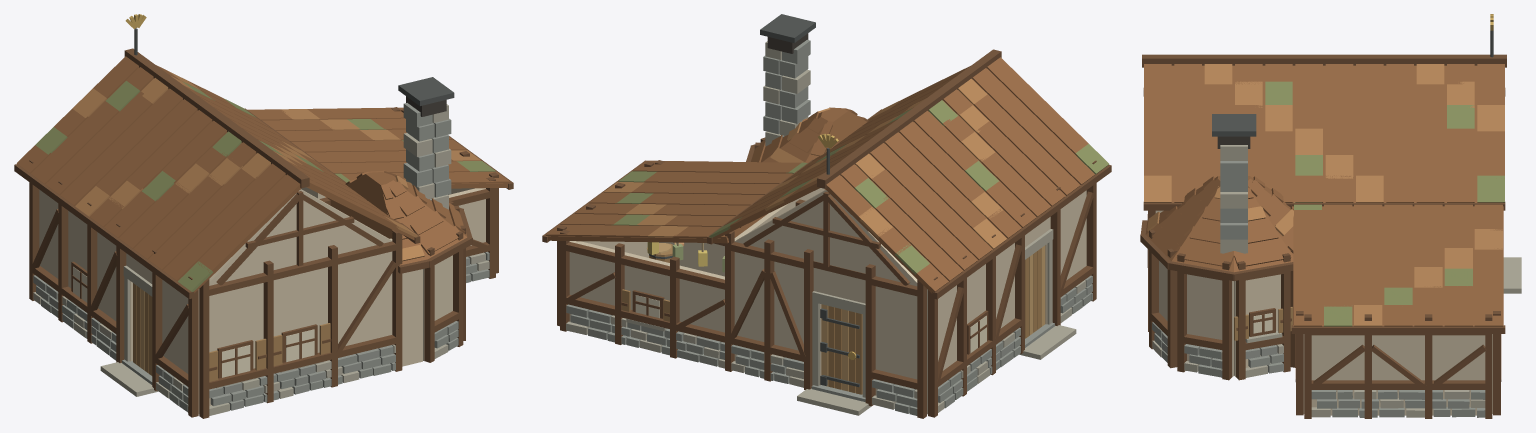
File: holm_teaching_kitchen_v1.glb
3 renders of one model, left to right at view 1: azimuth 30°, elevation 25°; view 2: azimuth 150°, elevation 25°; view 3: azimuth 270°, elevation 25°, orthographic. The views are drawn at different scales.
Visible parts, largest first — view 1: Roof_Workyard_Shingle_Umber, Static_Workyard_Oak_Dark, Static_Workyard_Warm_Limewash, Roof_Workyard_Oak_Dark, Static_Workyard_Fieldstone, Roof_Workyard_Shingle_Sun, Roof_Workyard_Warm_Limewash, Static_Workyard_Fieldstone_Light, Roof_Workyard_Shingle_Moss, Roof_Workyard_Fieldstone, Static_Workyard_Chalk, green_door_Workyard_Oak_Worn (+3 smaller); view 2: Roof_Workyard_Shingle_Umber, Static_Workyard_Oak_Dark, Static_Workyard_Warm_Limewash, Static_Workyard_Fieldstone, Roof_Workyard_Oak_Dark, Static_Workyard_Fieldstone_Light, Roof_Workyard_Shingle_Sun, Roof_Workyard_Warm_Limewash, Roof_Workyard_Shingle_Moss, Roof_Workyard_Fieldstone, yard_door_Workyard_Oak_Worn, Roof_Workyard_Fieldstone_Light (+6 smaller); view 3: Roof_Workyard_Shingle_Umber, Static_Workyard_Oak_Dark, Static_Workyard_Warm_Limewash, Roof_Workyard_Shingle_Sun, Roof_Workyard_Oak_Dark, Static_Workyard_Fieldstone, Roof_Workyard_Shingle_Moss, Static_Workyard_Fieldstone_Light, Roof_Workyard_Fieldstone, Roof_Workyard_Fieldstone_Light, Roof_Workyard_Forged_Iron, Static_Workyard_Oak_Worn.
Part boxes in pixels (x1=…): Roof_Workyard_Shingle_Umber: x1=16, y1=56, x2=510, y2=292; Static_Workyard_Oak_Dark: x1=29, y1=107, x2=498, y2=418; Static_Workyard_Warm_Limewash: x1=39, y1=187, x2=485, y2=413; Roof_Workyard_Oak_Dark: x1=14, y1=48, x2=513, y2=298; Static_Workyard_Fieldstone: x1=33, y1=251, x2=489, y2=412; Roof_Workyard_Shingle_Sun: x1=72, y1=70, x2=480, y2=261; Roof_Workyard_Warm_Limewash: x1=209, y1=189, x2=391, y2=285; Static_Workyard_Fieldstone_Light: x1=33, y1=252, x2=489, y2=415; Roof_Workyard_Shingle_Moss: x1=35, y1=81, x2=495, y2=291; Roof_Workyard_Fieldstone: x1=403, y1=103, x2=451, y2=200; Static_Workyard_Chalk: x1=73, y1=266, x2=314, y2=377; green_door_Workyard_Oak_Worn: x1=133, y1=283, x2=152, y2=375; Roof_Workyard_Shingle_Umber: x1=545, y1=57, x2=1094, y2=293; Static_Workyard_Oak_Dark: x1=557, y1=137, x2=1096, y2=418; Static_Workyard_Warm_Limewash: x1=569, y1=188, x2=1086, y2=414; Static_Workyard_Fieldstone: x1=566, y1=275, x2=1092, y2=415; Roof_Workyard_Oak_Dark: x1=542, y1=49, x2=1111, y2=299; Static_Workyard_Fieldstone_Light: x1=566, y1=229, x2=1086, y2=415; Roof_Workyard_Shingle_Sun: x1=604, y1=78, x2=1006, y2=249; Roof_Workyard_Warm_Limewash: x1=734, y1=190, x2=917, y2=286; Roof_Workyard_Shingle_Moss: x1=611, y1=100, x2=1109, y2=274; Roof_Workyard_Fieldstone: x1=763, y1=39, x2=810, y2=137; yard_door_Workyard_Oak_Worn: x1=828, y1=306, x2=862, y2=394; Roof_Workyard_Fieldstone_Light: x1=763, y1=41, x2=810, y2=145; Roof_Workyard_Shingle_Umber: x1=1144, y1=64, x2=1504, y2=326; Static_Workyard_Oak_Dark: x1=1147, y1=210, x2=1501, y2=418; Static_Workyard_Warm_Limewash: x1=1155, y1=210, x2=1492, y2=415; Roof_Workyard_Shingle_Sun: x1=1144, y1=64, x2=1504, y2=326; Roof_Workyard_Oak_Dark: x1=1140, y1=54, x2=1506, y2=333; Static_Workyard_Fieldstone: x1=1152, y1=322, x2=1485, y2=417; Roof_Workyard_Shingle_Moss: x1=1265, y1=81, x2=1504, y2=326; Static_Workyard_Fieldstone_Light: x1=1152, y1=257, x2=1521, y2=417; Roof_Workyard_Fieldstone: x1=1220, y1=161, x2=1247, y2=239; Roof_Workyard_Fieldstone_Light: x1=1220, y1=145, x2=1247, y2=253; Roof_Workyard_Forged_Iron: x1=1212, y1=30, x2=1493, y2=136; Static_Workyard_Oak_Worn: x1=1234, y1=307, x2=1292, y2=340.
Size of the model in its own units: 14.68 by 9.03 by 11.6.
